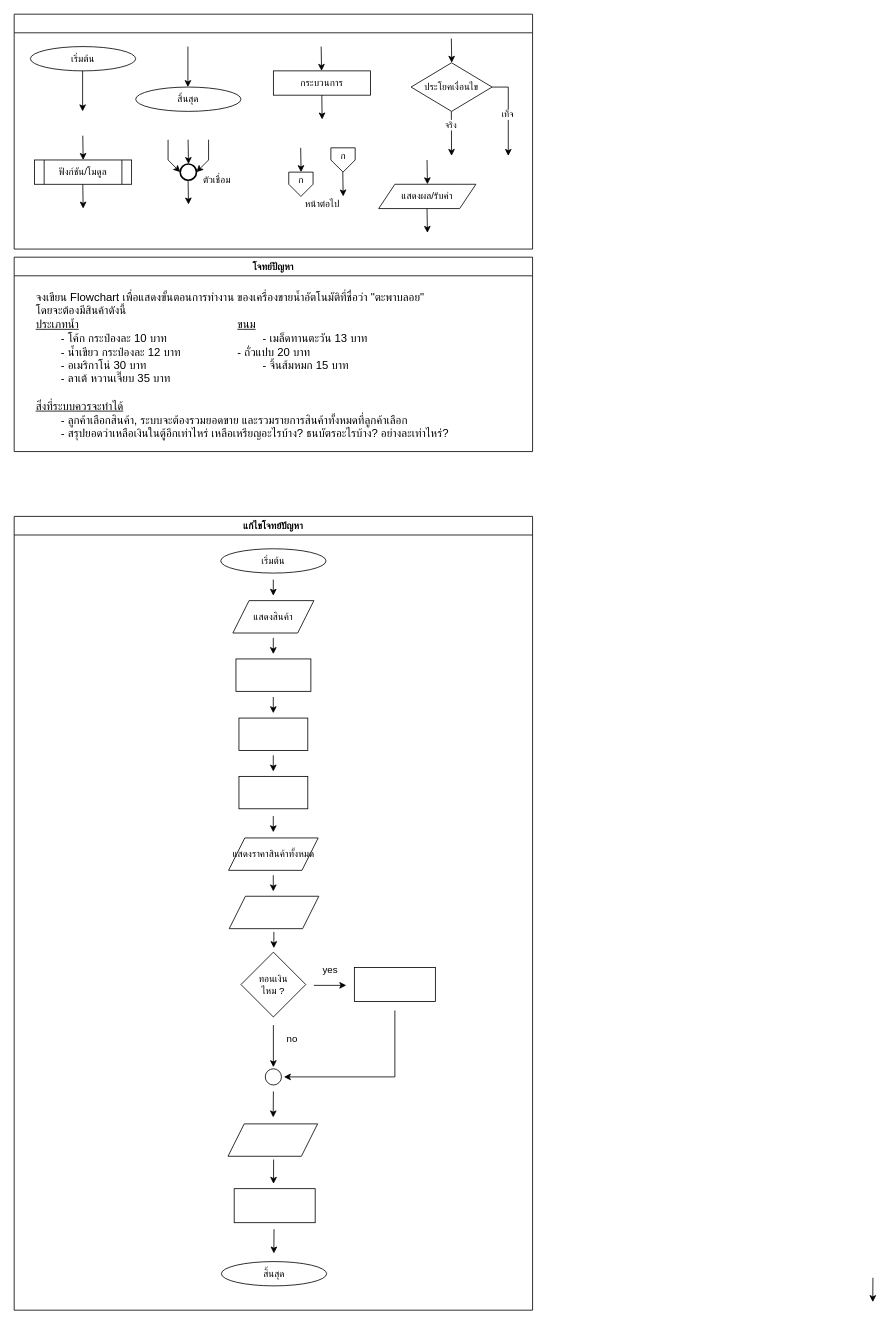
Some shapes in this 894 by 1324 pixel diagram are drawn without their labels. The shapes that lost their labels are listed below. From the top down, each one's box as (x1, y1, x2, y2) in pixels, then its label:
(13, 13, 533, 249): ทบทวนสัญลักษณ์
(235, 658, 311, 691): เลือกสินค้าประเภทน้ำ / ขนม
(238, 717, 308, 750): รวมรายการสินค้า
(238, 776, 308, 809): รวมยอดราคาสินค้าทั้งหมด
(228, 895, 319, 929): รับเงินจากลูกค้า
(354, 967, 435, 1002): ทอนเงิน
(227, 1123, 318, 1156): แสดงยอดเงิน คงเหลือ
(233, 1188, 315, 1223): รับสินค้า
